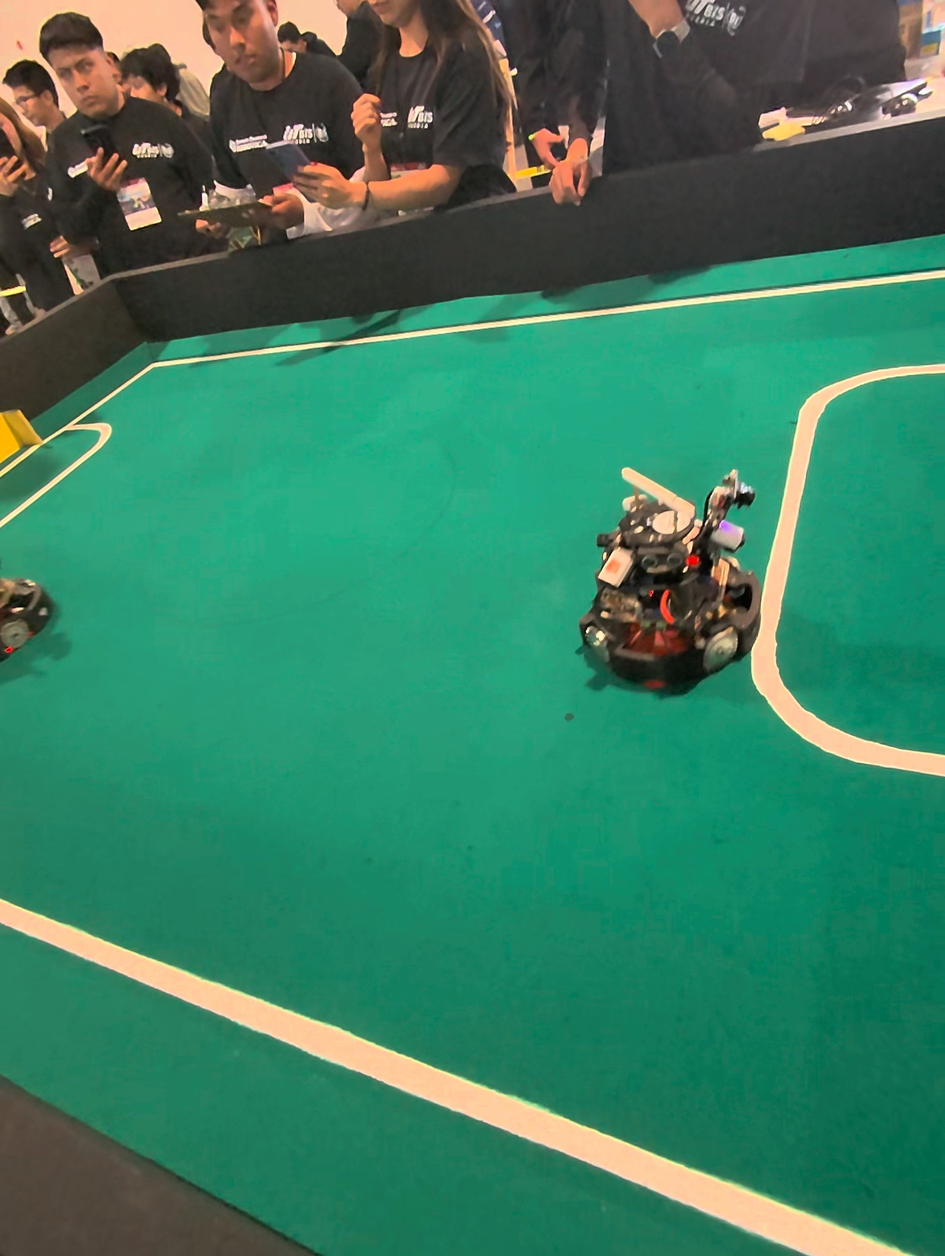Robot: (577, 436, 768, 722)
